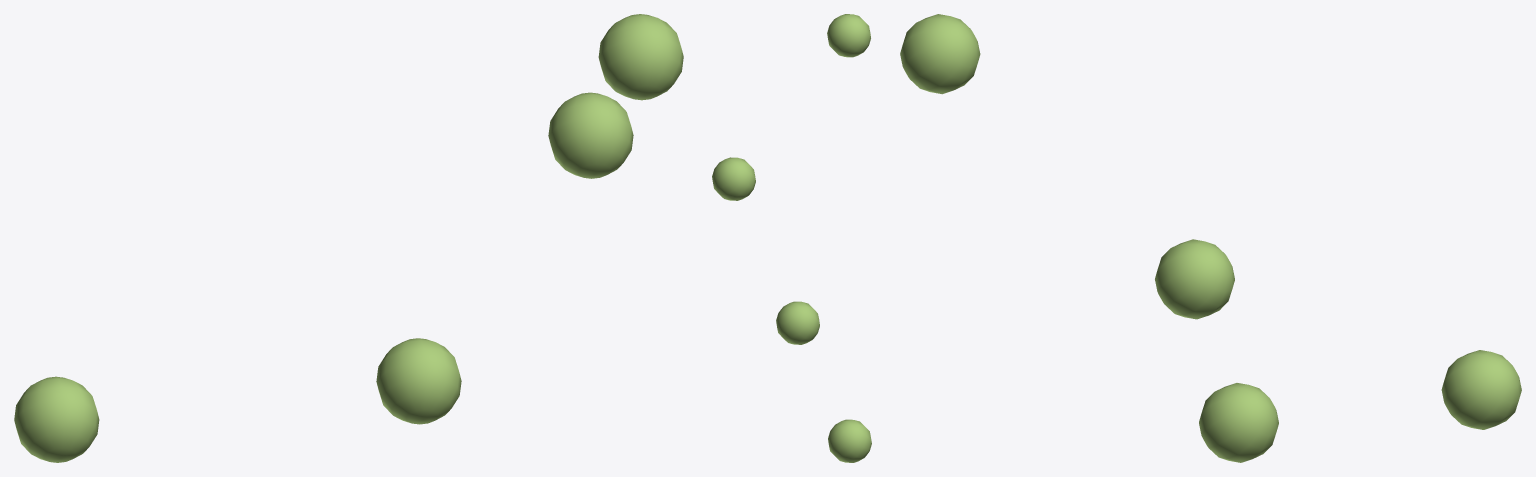
The model's file is superior-gluteal-nodes-r.glb.
3 renders of one model, left to right at view 1: azimuth 30°, elevation 25°; view 2: azimuth 150°, elevation 25°; view 3: azimuth 270°, elevation 25°, orthographic. The views are drawn at different scales.
Visible parts, largest first — view 1: Superior gluteal nodes.r; view 2: Superior gluteal nodes.r; view 3: Superior gluteal nodes.r.
Boxes of the visible parts, left/top/right/bottom form: Superior gluteal nodes.r: left=14, top=14, right=683, bottom=462; Superior gluteal nodes.r: left=712, top=14, right=871, bottom=462; Superior gluteal nodes.r: left=900, top=14, right=1521, bottom=462.
Bounding box in the file's own units: 0.0157 × 0.0193 × 0.0201.
